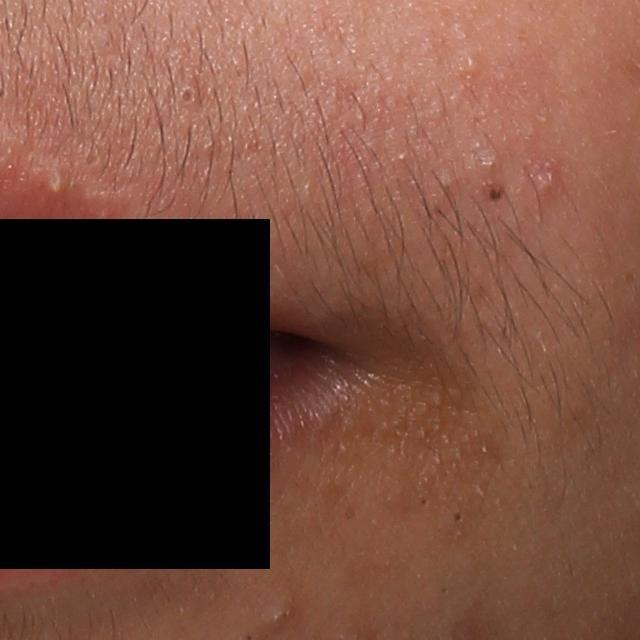comedo: (169, 78, 198, 106), (531, 165, 558, 193), (265, 606, 291, 633), (476, 153, 507, 173), (461, 49, 485, 74), (447, 508, 469, 525)
